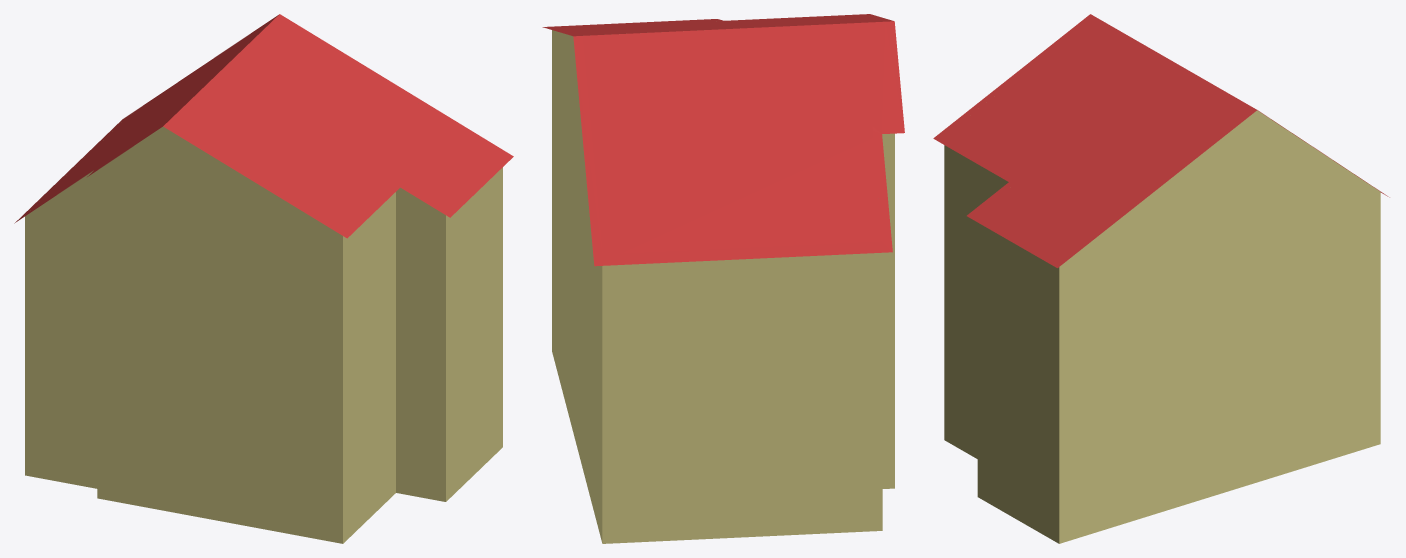
3 views of the same model, side by side, from view 1: azimuth 30°, elevation 25°; view 2: azimuth 150°, elevation 25°; view 3: azimuth 270°, elevation 25° (orthographic). The views are drawn at different scales.
Bounding box in the file's own units: 14.28 × 14.34 × 12.99.
